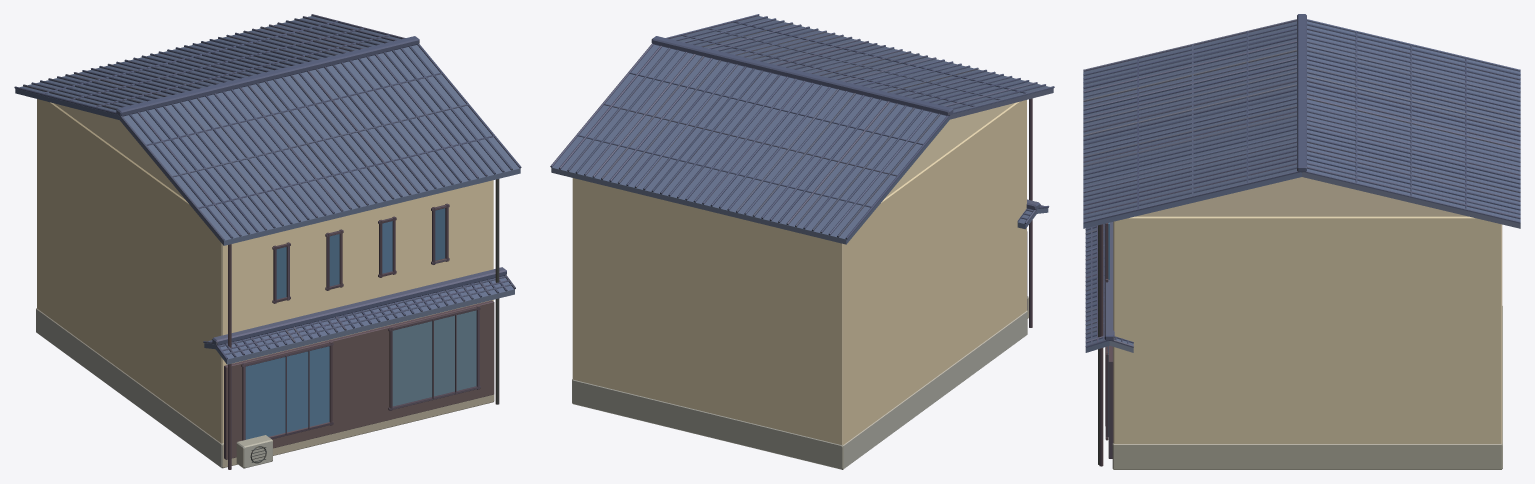
File: ART_EavesStorehouse.glb
The picture shows the model from 3 angles, left to right: view 1: azimuth 30°, elevation 25°; view 2: azimuth 150°, elevation 25°; view 3: azimuth 270°, elevation 25°; orthographic projection. The views are drawn at different scales.
Parts seen in each view (by area): view 1: ART_EavesStorehouse; view 2: ART_EavesStorehouse; view 3: ART_EavesStorehouse.
Boxes of the visible parts, x1,y1,x2,y2 form: ART_EavesStorehouse: (14, 14, 521, 469); ART_EavesStorehouse: (550, 14, 1054, 469); ART_EavesStorehouse: (1083, 14, 1520, 469).
Bounding box in the file's own units: 7.93 × 7.49 × 9.56.
